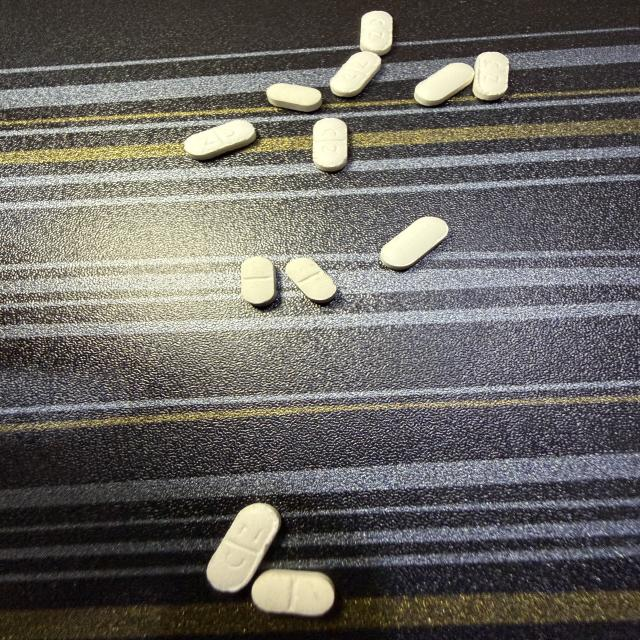pill: (207, 503, 280, 592), (252, 570, 334, 616), (381, 217, 448, 270), (184, 120, 255, 159), (415, 63, 474, 106), (330, 52, 381, 97), (286, 258, 336, 303), (313, 118, 347, 171), (241, 257, 276, 306), (473, 52, 508, 100), (267, 84, 322, 112), (360, 11, 392, 55)
